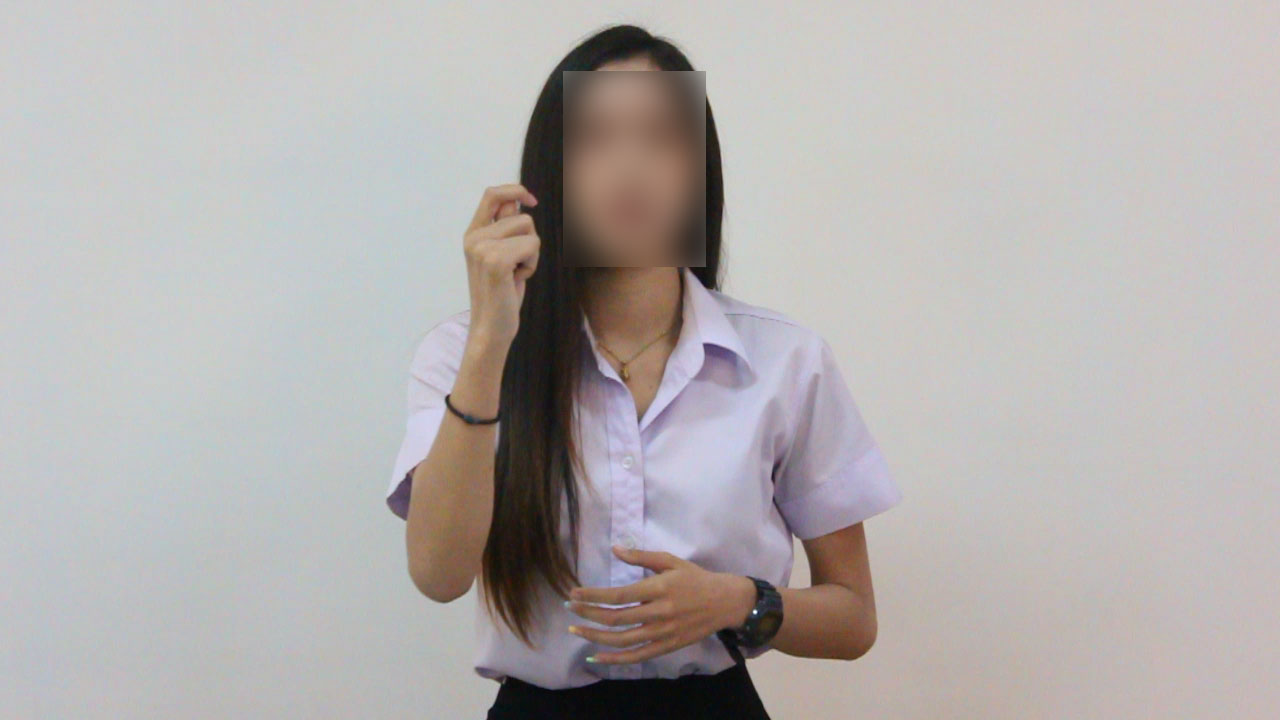or: (460, 180, 548, 347)
